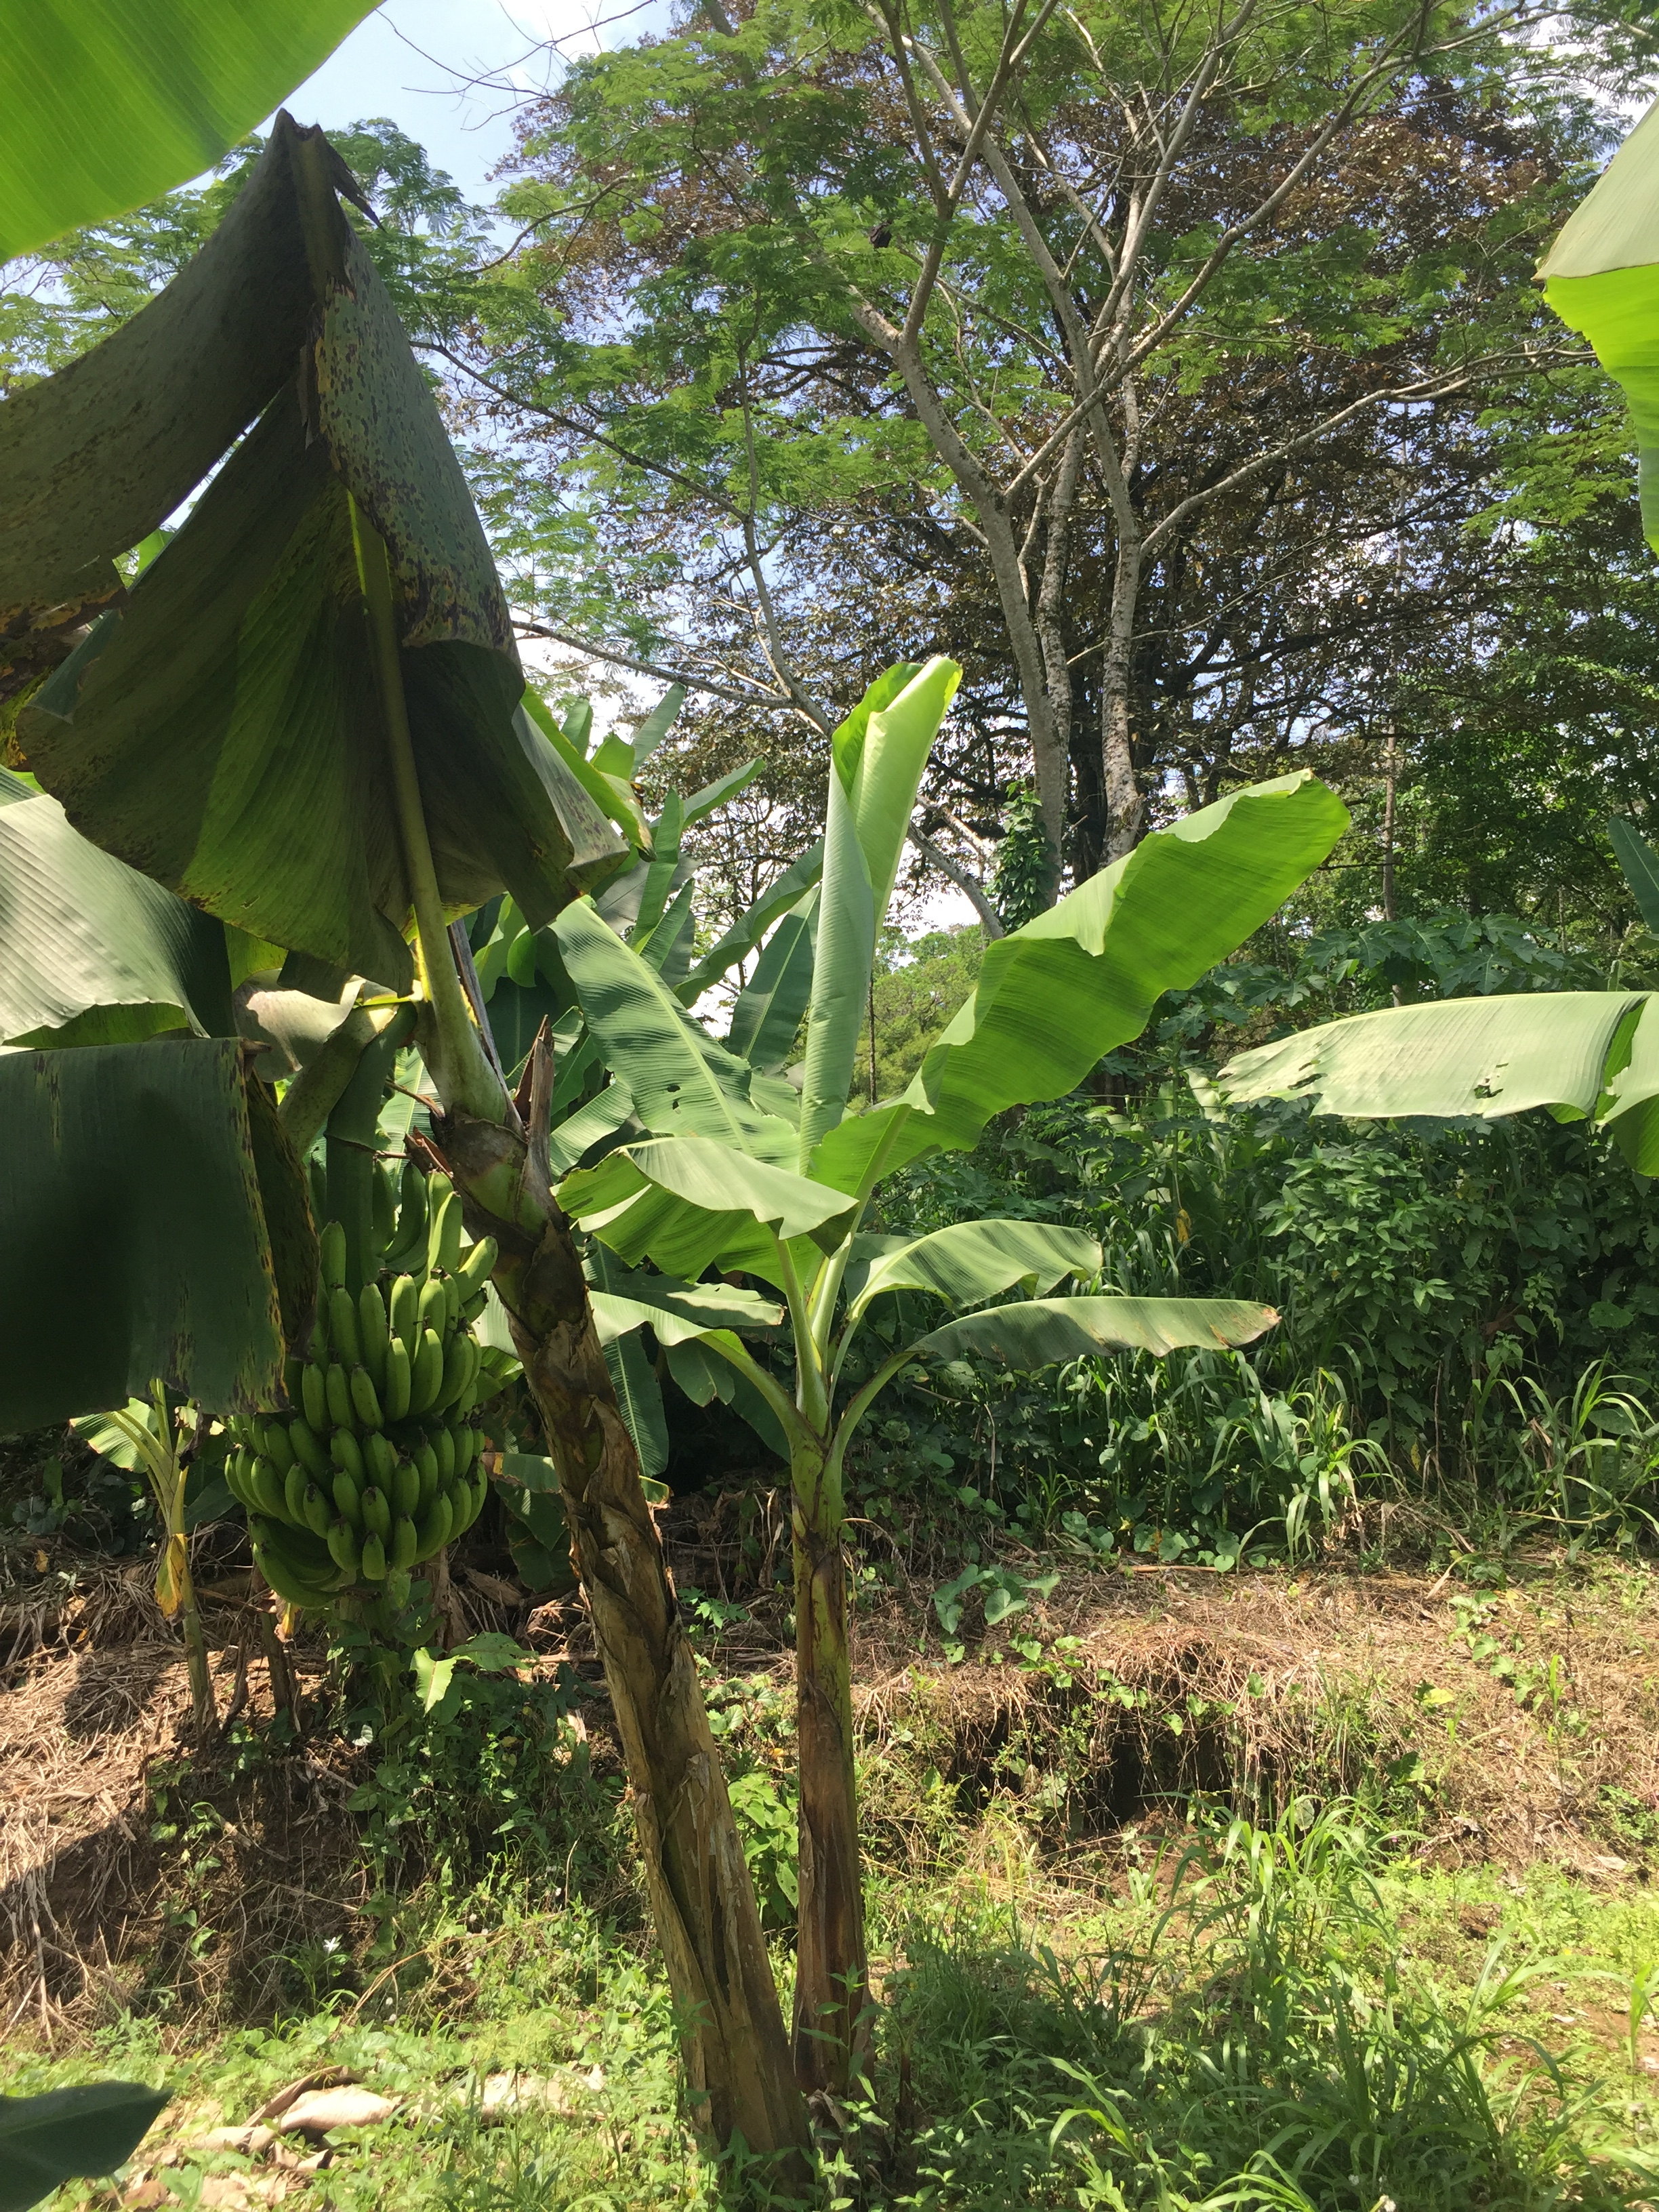candleleafs: (807, 655, 971, 1109)
